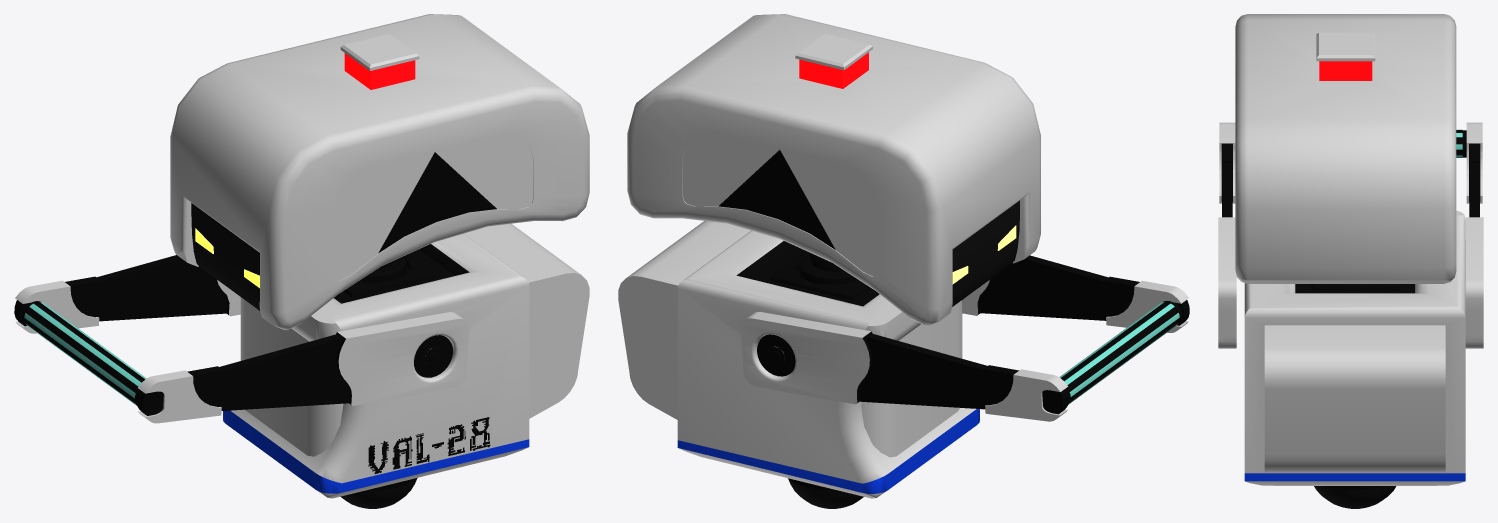
Rendered from Cleaner_robot.glb.
3 renders of one model, left to right at view 1: azimuth 30°, elevation 25°; view 2: azimuth 150°, elevation 25°; view 3: azimuth 270°, elevation 25°, orthographic. The views are drawn at different scales.
Visible parts, largest first — view 1: Cube.001; view 2: Cube.001; view 3: Cube.001.
Part boxes in pixels (box(x1,y1,x2,y2)): Cube.001: box(14, 14, 589, 508); Cube.001: box(618, 14, 1189, 508); Cube.001: box(1218, 14, 1483, 508).
Bounding box in the file's own units: 494 × 461 × 240.
